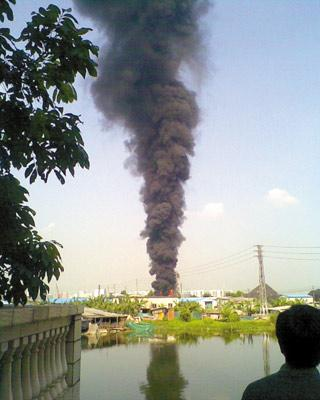smoke: (98, 2, 196, 293)
